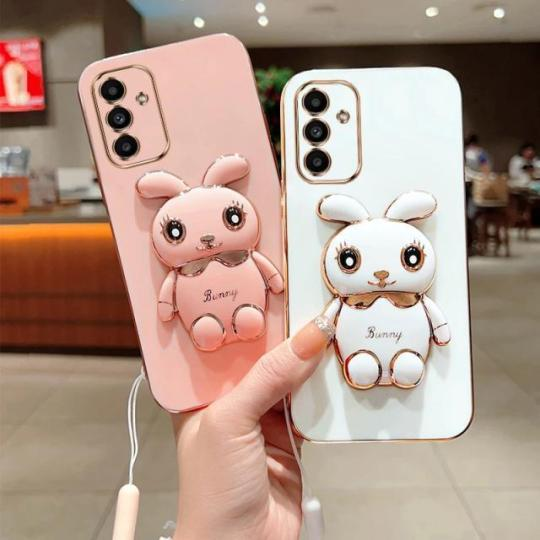phone: (79, 30, 288, 417), (287, 64, 474, 445)
